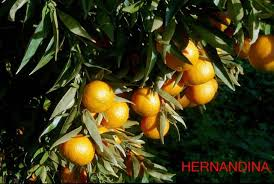orange: (54, 131, 97, 164), (81, 79, 114, 112), (165, 40, 200, 70), (130, 84, 161, 116), (185, 80, 221, 106), (183, 60, 217, 86), (140, 110, 170, 139)
